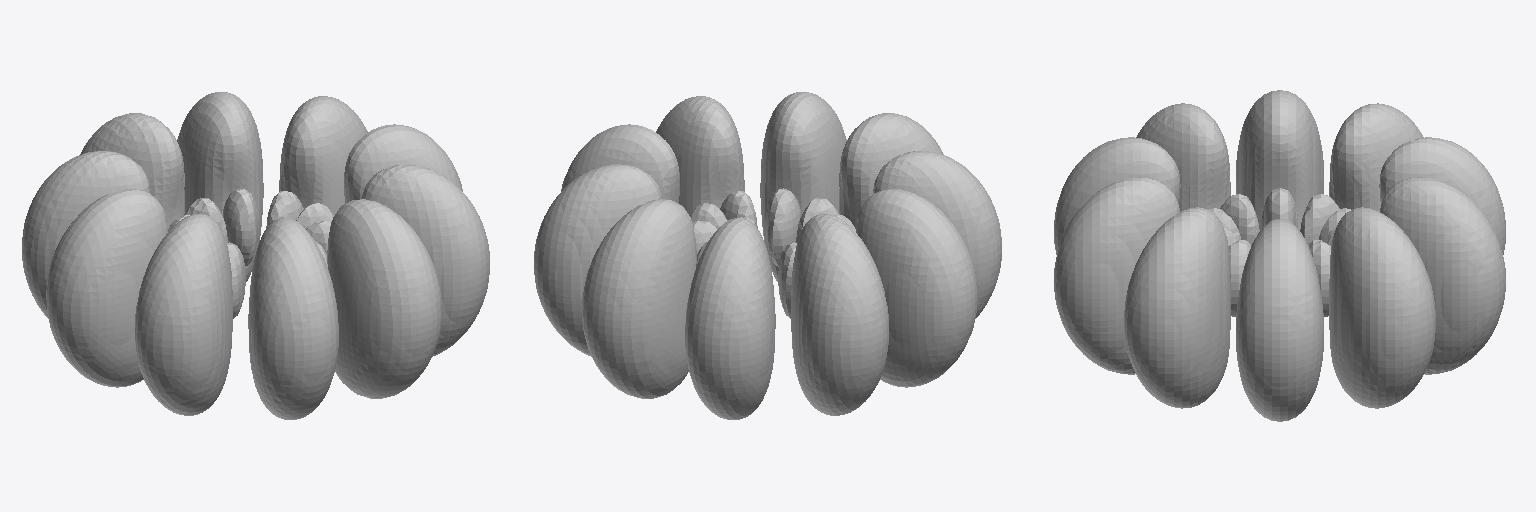
Rendered from orb_n=7_ l=5 _m=5.obj.
3 views of the same model, side by side, from view 1: azimuth 30°, elevation 25°; view 2: azimuth 150°, elevation 25°; view 3: azimuth 270°, elevation 25° (orthographic).
Parts seen in each view (by area): view 1: orb_n=7__l=5__m=5; view 2: orb_n=7__l=5__m=5; view 3: orb_n=7__l=5__m=5.
Part boxes in pixels (bbox=[...]): orb_n=7__l=5__m=5: bbox=[22, 92, 489, 419]; orb_n=7__l=5__m=5: bbox=[534, 92, 1001, 419]; orb_n=7__l=5__m=5: bbox=[1054, 90, 1505, 421].
Bounding box in the file's own units: 192 × 86.52 × 184.